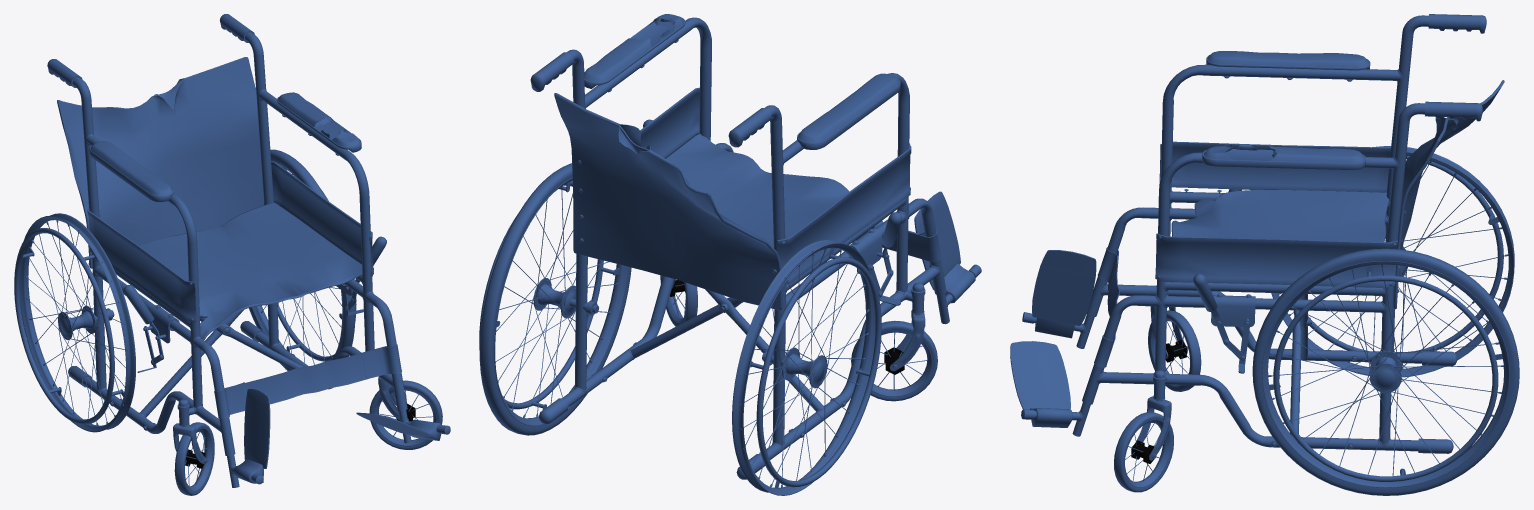
Rendered from wheelchair_LP.fbx.
3 renders of one model, left to right at view 1: azimuth 30°, elevation 25°; view 2: azimuth 150°, elevation 25°; view 3: azimuth 270°, elevation 25°, orthographic. The views are drawn at different scales.
Parts seen in each view (by area): view 1: Spinka_mesh_lp, carcas_mesh_lp, seat_mesh_lp, back whell_mesh_lp, side walls_mesh_lp, footrest up_mesh_lp, armrest_mesh_lp, front whell_mesh_lp, footrest_mesh_lp, bracing_mesh_lp, front mech_mesh_lp, handle_mesh_lp; view 2: back whell_mesh_lp, Spinka_mesh_lp, carcas_mesh_lp, seat_mesh_lp, side walls_mesh_lp, armrest_mesh_lp, front whell_mesh_lp, footrest_mesh_lp, bracing_mesh_lp, handle_mesh_lp, footrest up_mesh_lp, front mech_mesh_lp; view 3: back whell_mesh_lp, carcas_mesh_lp, side walls_mesh_lp, seat_mesh_lp, footrest_mesh_lp, armrest_mesh_lp, front whell_mesh_lp, Spinka_mesh_lp, bracing_mesh_lp, handle_mesh_lp, footrest up_mesh_lp, front mech_mesh_lp.
Boxes of the visible parts, x1=… form: Spinka_mesh_lp: x1=57, y1=57, x2=263, y2=268; carcas_mesh_lp: x1=68, y1=32, x2=450, y2=487; seat_mesh_lp: x1=140, y1=202, x2=362, y2=340; back whell_mesh_lp: x1=14, y1=149, x2=356, y2=432; side walls_mesh_lp: x1=87, y1=161, x2=373, y2=322; footrest up_mesh_lp: x1=214, y1=344, x2=401, y2=418; armrest_mesh_lp: x1=89, y1=92, x2=361, y2=202; front whell_mesh_lp: x1=174, y1=380, x2=442, y2=495; footrest_mesh_lp: x1=233, y1=389, x2=441, y2=483; bracing_mesh_lp: x1=123, y1=236, x2=386, y2=372; front mech_mesh_lp: x1=173, y1=377, x2=408, y2=464; handle_mesh_lp: x1=47, y1=14, x2=254, y2=87; back whell_mesh_lp: x1=479, y1=163, x2=881, y2=495; Spinka_mesh_lp: x1=554, y1=93, x2=782, y2=310; carcas_mesh_lp: x1=539, y1=17, x2=981, y2=479; seat_mesh_lp: x1=665, y1=133, x2=883, y2=247; side walls_mesh_lp: x1=640, y1=87, x2=911, y2=284; armrest_mesh_lp: x1=584, y1=14, x2=900, y2=149; front whell_mesh_lp: x1=660, y1=275, x2=937, y2=401; footrest_mesh_lp: x1=914, y1=191, x2=975, y2=303; bracing_mesh_lp: x1=643, y1=119, x2=901, y2=305; handle_mesh_lp: x1=530, y1=52, x2=771, y2=147; footrest up_mesh_lp: x1=856, y1=227, x2=941, y2=261; front mech_mesh_lp: x1=672, y1=279, x2=925, y2=371; back whell_mesh_lp: x1=1252, y1=146, x2=1519, y2=495; carcas_mesh_lp: x1=1021, y1=15, x2=1457, y2=453; side walls_mesh_lp: x1=1155, y1=141, x2=1397, y2=287; seat_mesh_lp: x1=1171, y1=189, x2=1389, y2=242; footrest_mesh_lp: x1=1010, y1=250, x2=1096, y2=427; armrest_mesh_lp: x1=1202, y1=51, x2=1370, y2=170; front whell_mesh_lp: x1=1114, y1=310, x2=1201, y2=492; Spinka_mesh_lp: x1=1393, y1=80, x2=1504, y2=309; bracing_mesh_lp: x1=1193, y1=189, x2=1255, y2=373; handle_mesh_lp: x1=1425, y1=14, x2=1486, y2=121; footrest up_mesh_lp: x1=1094, y1=247, x2=1119, y2=367; front mech_mesh_lp: x1=1131, y1=306, x2=1188, y2=460.
Size of the model in its own units: 73.69 by 91.12 by 112.
